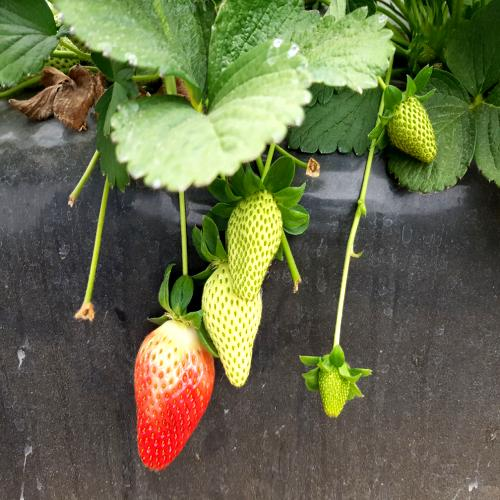ripe: (132, 314, 220, 480)
